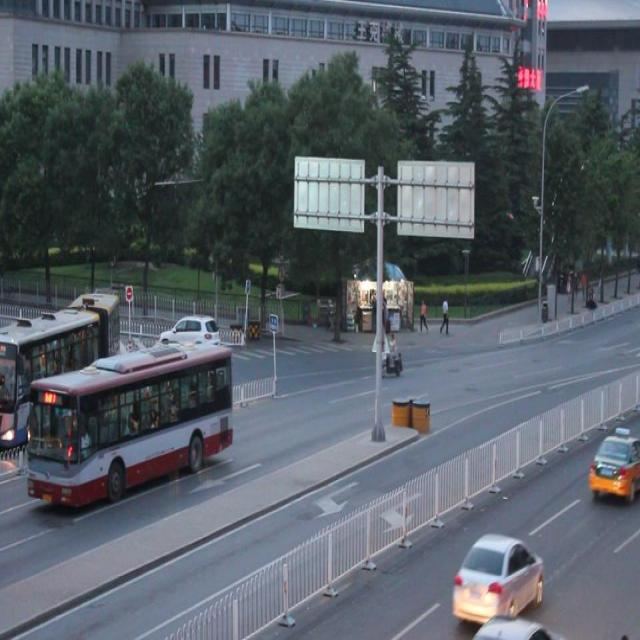car: (450, 531, 545, 625), (585, 429, 640, 497), (469, 607, 567, 640), (162, 309, 223, 359), (121, 332, 167, 387)
van: (31, 348, 237, 509), (1, 290, 119, 442)
